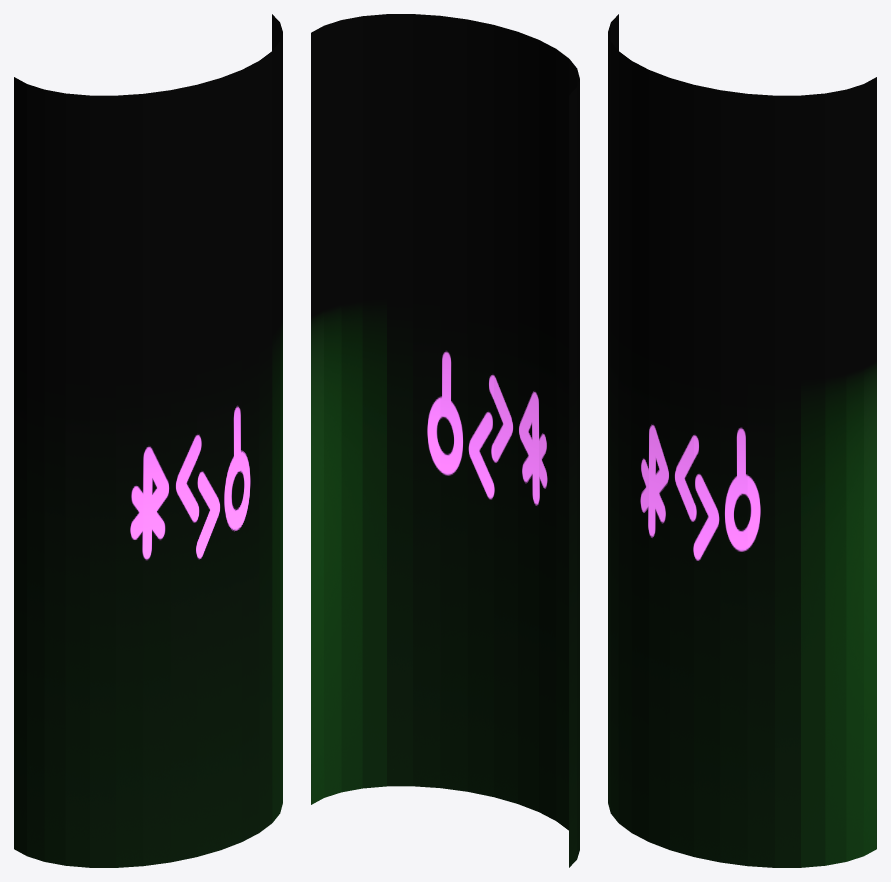
The model's file is Barrier.fbx.
3 views of the same model, side by side, from view 1: azimuth 30°, elevation 25°; view 2: azimuth 150°, elevation 25°; view 3: azimuth 330°, elevation 25° (orthographic).
Parts seen in each view (by area): view 1: Barrier.001; view 2: Barrier.001; view 3: Barrier.001.
Boxes of the visible parts, x1,y1,x2,y2 form: Barrier.001: [14, 14, 282, 867]; Barrier.001: [311, 14, 579, 867]; Barrier.001: [608, 14, 876, 867].
Size of the model in its own units: 277 by 793 by 100.
1 material, 1 textured.
